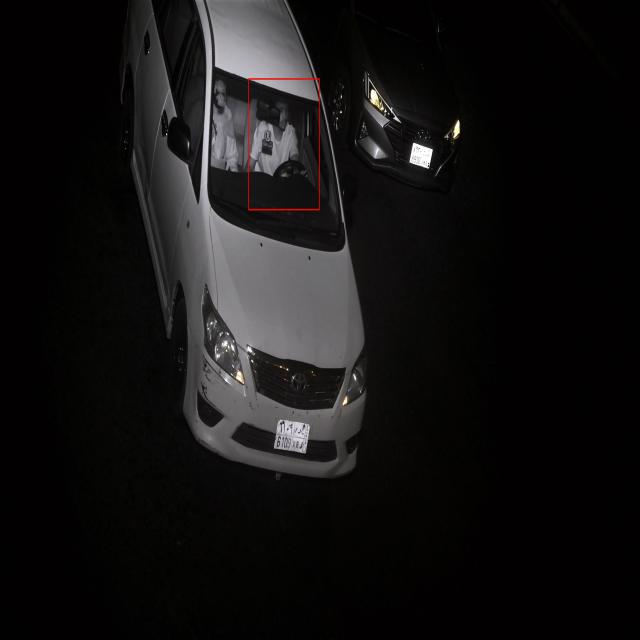windshield: (205, 62, 348, 260)
